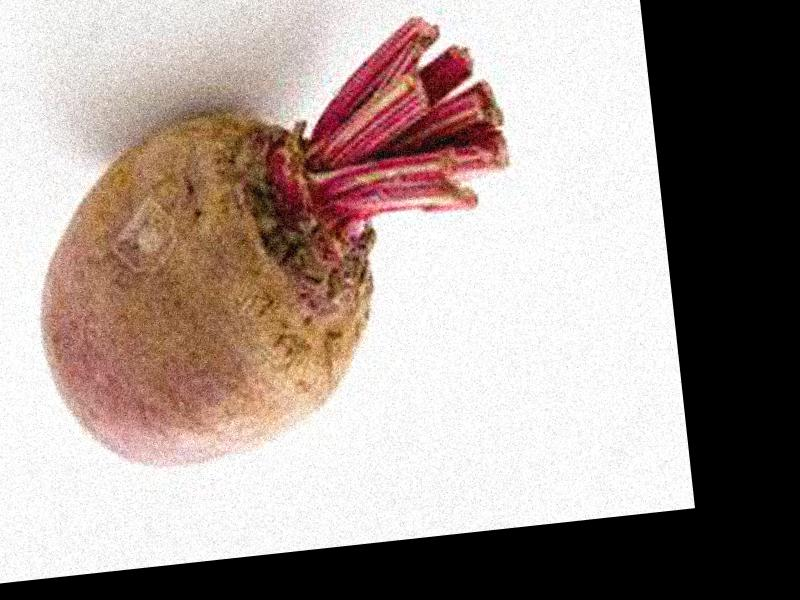Beet: (10, 5, 537, 481)
